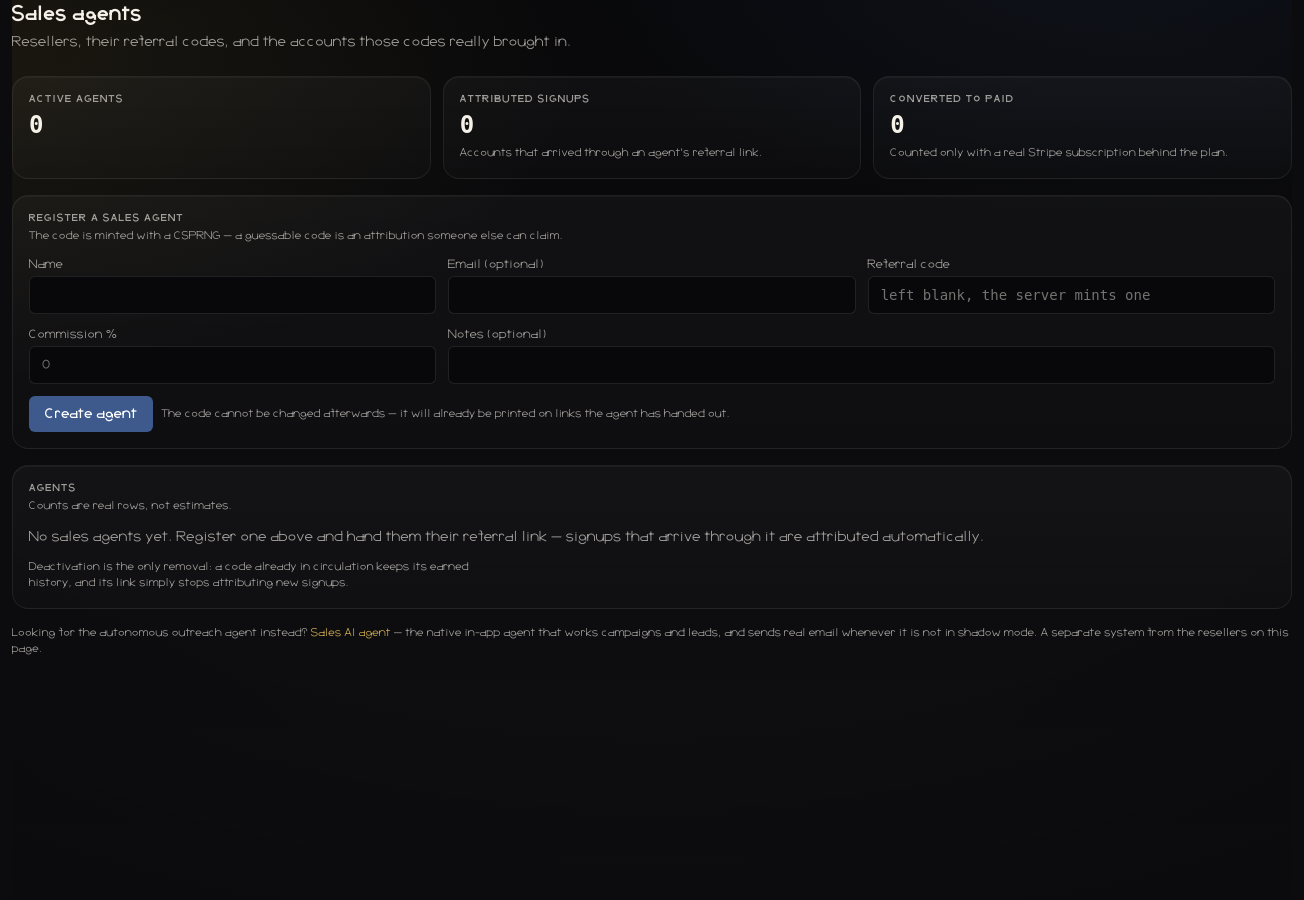
creating an agent › surfaces a duplicate-code 409 in the backend's own words
This screenshot has width=1304, height=900.
In the field named "Agent name": point(233, 295) top-left (29, 276), bottom-right (436, 314), type "Sam Partner"
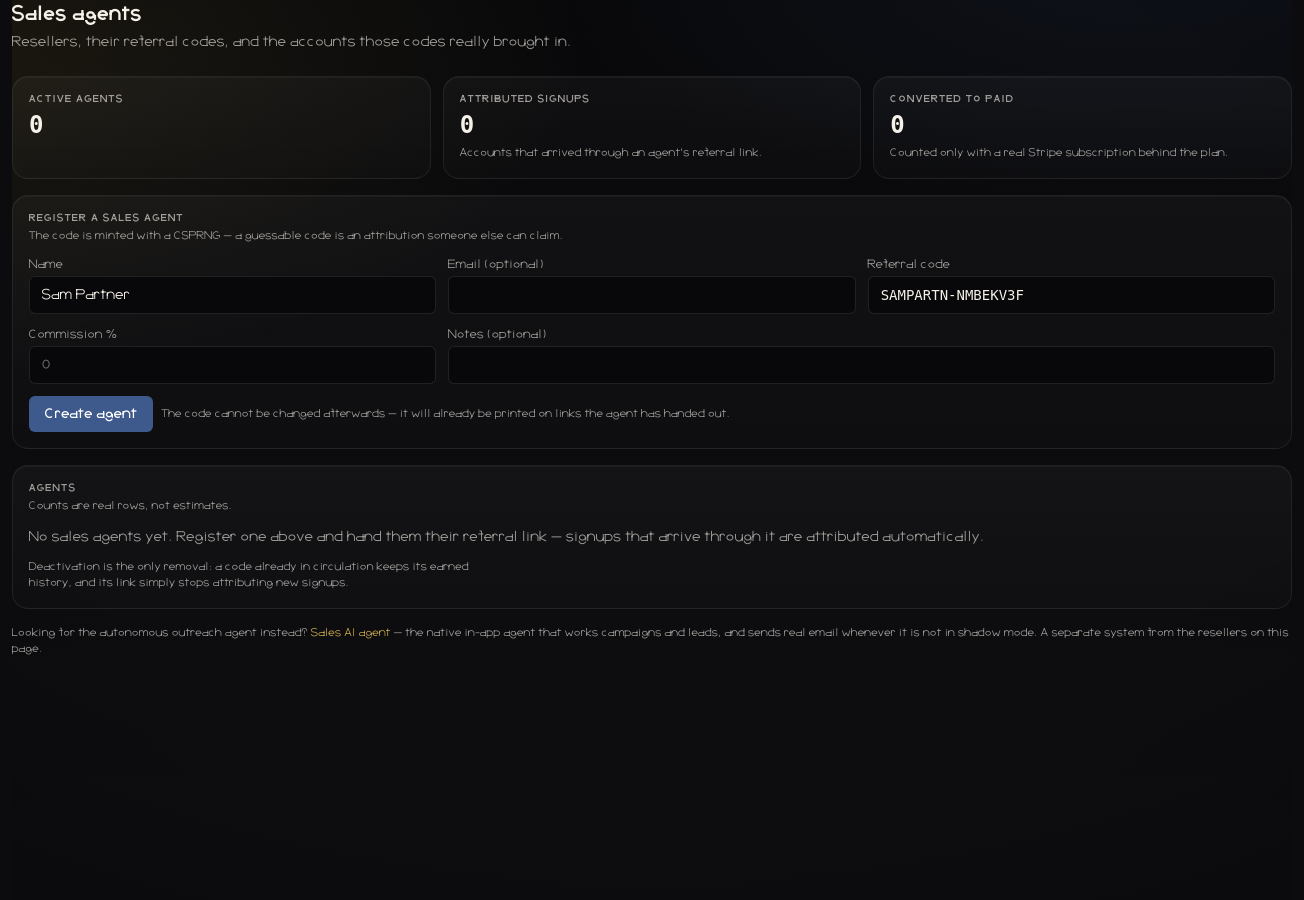
Click the button with test id "admin-sales-agent-create": point(91, 414) top-left (29, 396), bottom-right (153, 432)
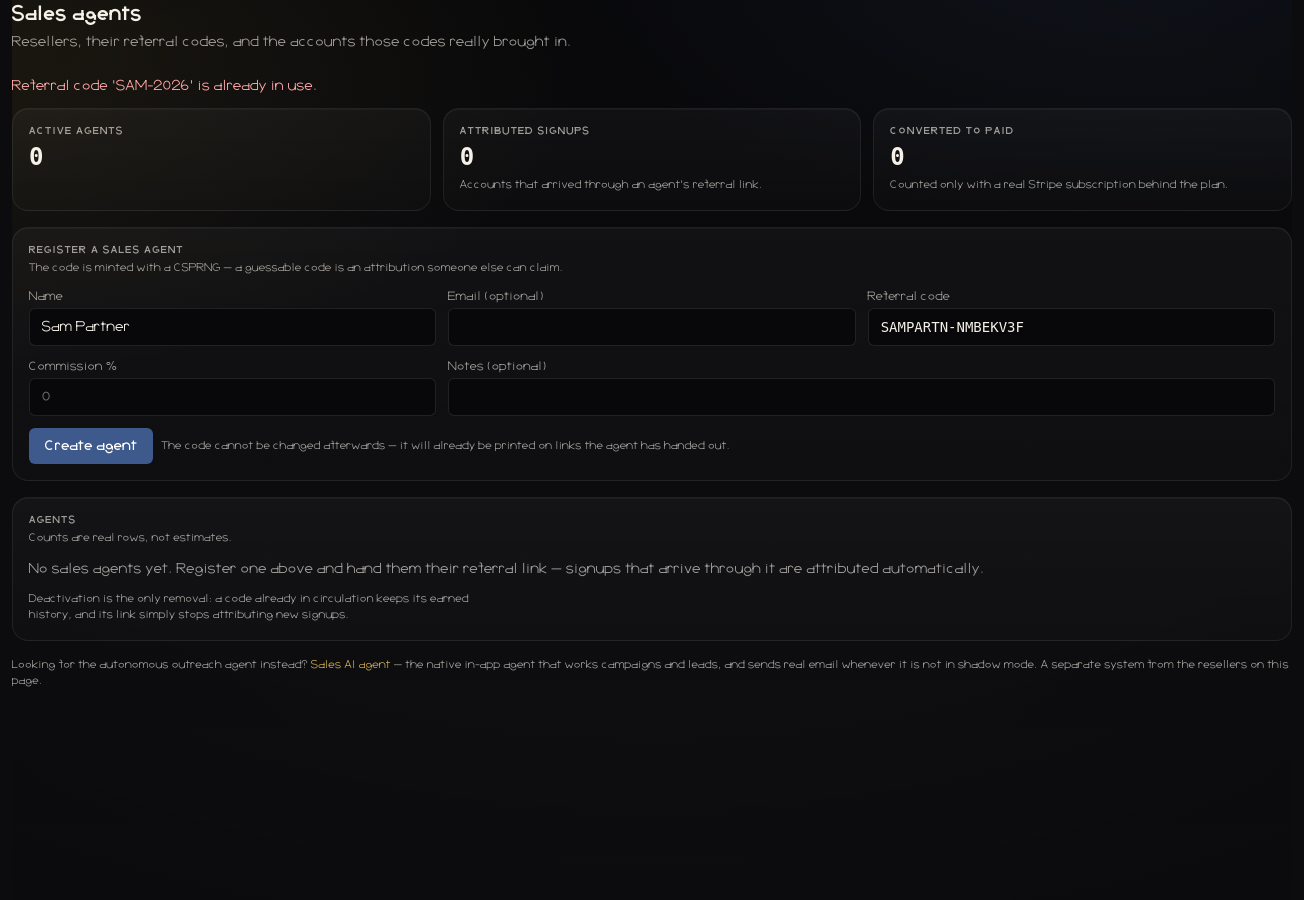
expect the message with test id "admin-sales-agents-error" shows "already in use": met, box top-left (12, 79), bottom-right (318, 93)
